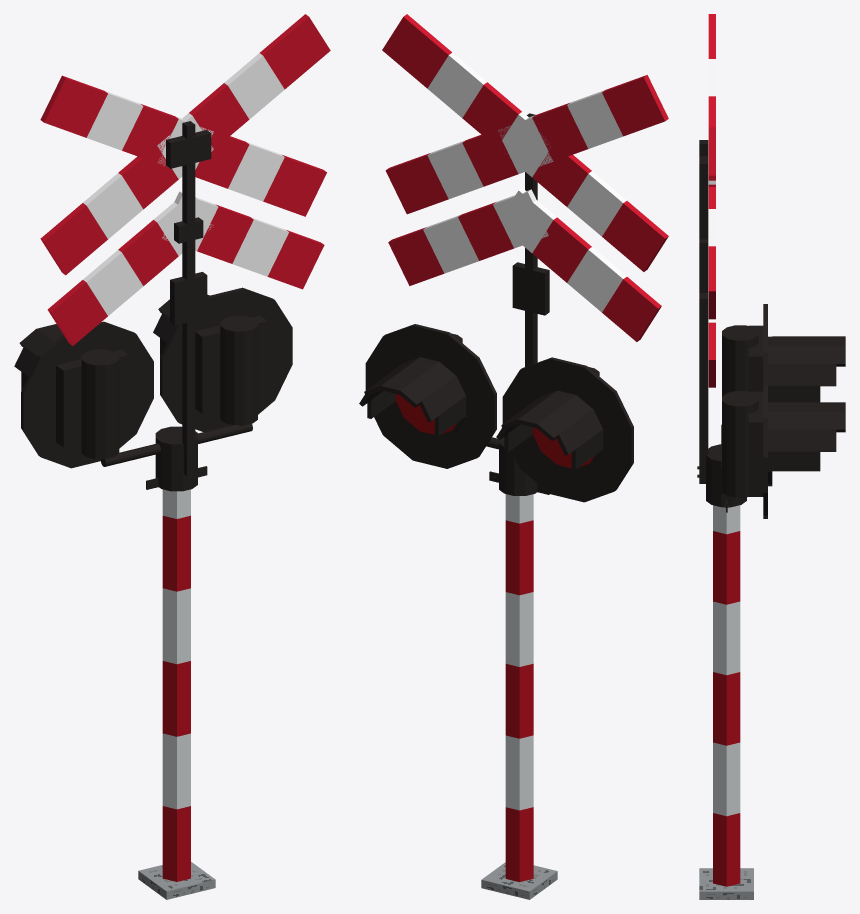
File: sd-k2_no_bell_multi_track.obj
3 renders of one model, left to right at view 1: azimuth 30°, elevation 25°; view 2: azimuth 150°, elevation 25°; view 3: azimuth 270°, elevation 25°, orthographic. The views are drawn at different scales.
Visible parts, largest first — view 1: cuboid; view 2: cuboid, mrygR, mrygL; view 3: cuboid.
Boxes of the visible parts, x1,y1,x2,y2 form: cuboid: (14, 14, 330, 899); cuboid: (359, 14, 668, 899); mrygR: (396, 394, 456, 434); mrygL: (533, 427, 593, 468); cuboid: (697, 14, 845, 899).
Bounding box in the file's own units: 1.1 × 3.09 × 0.5062.
